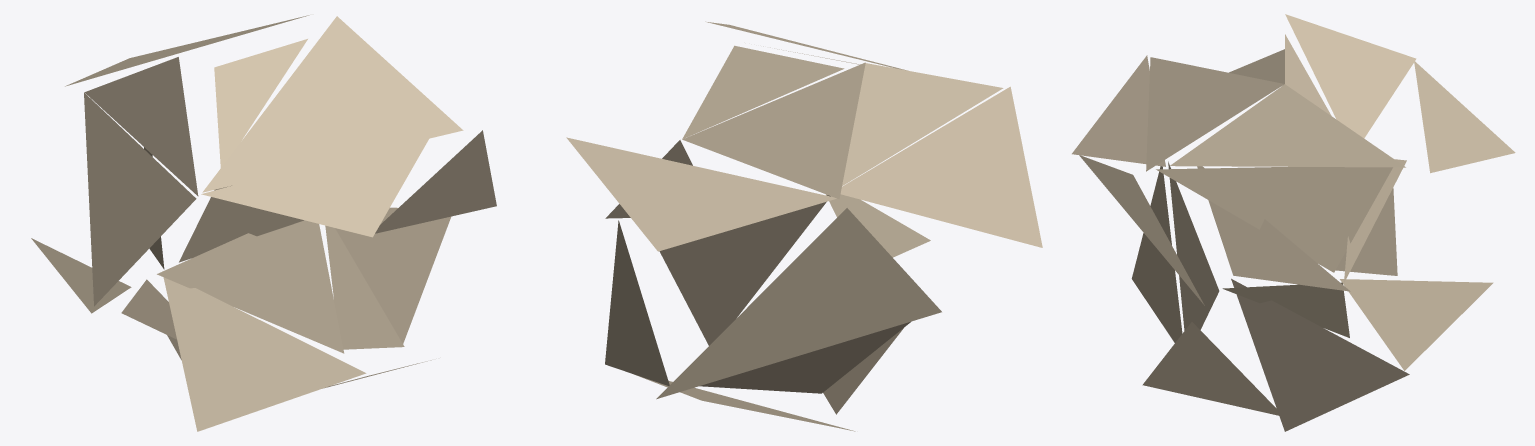
Rendered from rock-b.glb.
3 renders of one model, left to right at view 1: azimuth 30°, elevation 25°; view 2: azimuth 150°, elevation 25°; view 3: azimuth 270°, elevation 25°, orthographic. The views are drawn at different scales.
Parts seen in each view (by area): view 1: Rock_1; view 2: Rock_1; view 3: Rock_1.
Part boxes in pixels (bbox=[...]): Rock_1: bbox=[31, 15, 496, 431]; Rock_1: bbox=[566, 21, 1042, 431]; Rock_1: bbox=[1072, 14, 1515, 431].
Bounding box in the file's own units: 2.11 × 1.73 × 2.05.
